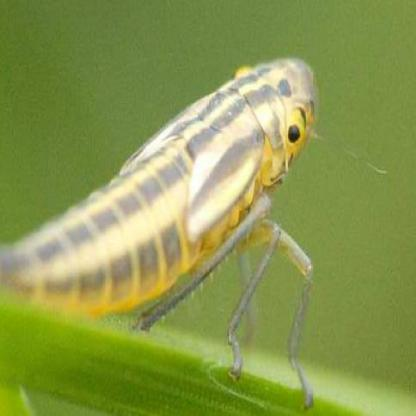Green-Leafhopper: (0, 47, 335, 414)
